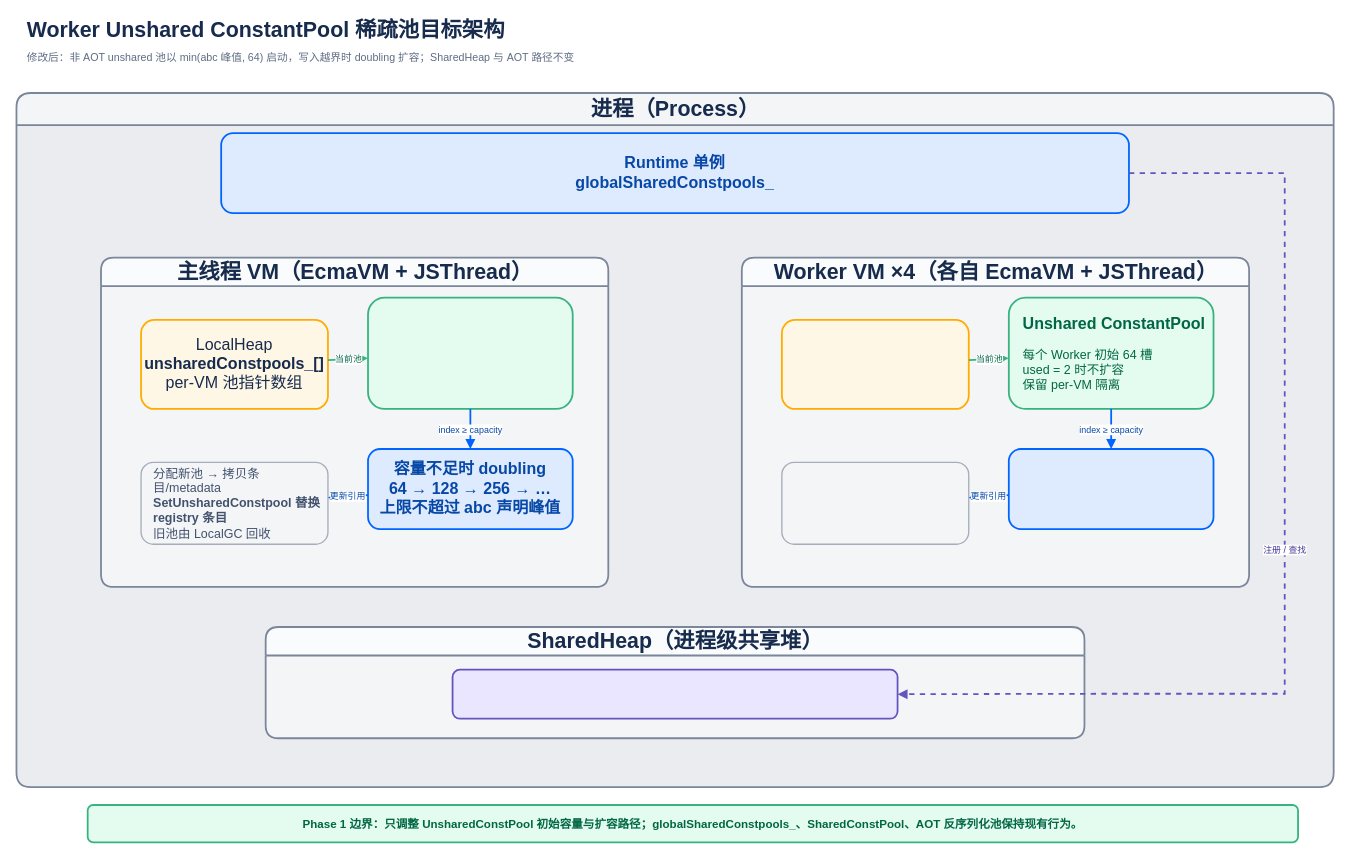
This 1349x858 diagram has some shape labels left out. Each missing label, with the centre of its shape:
"LocalHeap unsharedConstpools_[] 每个 Worker 独立持有" belongs at (875,364).
"SharedConstPool ×96 跨 VM 共享；本 Phase 不改变对象布局、容量与注册方式" belongs at (674,693).
"Unshared ConstantPool 初始容量：min(peak, 64) 64 × 8 B = 512 B 按真实 entry index 写入" belongs at (470,352).
"容量不足时按相同策略扩容 Worker 低使用率场景通常 0 次" belongs at (1110,489).
"扩容只替换当前 Worker VM 的池 不影响其他 VM" belongs at (875,503).
